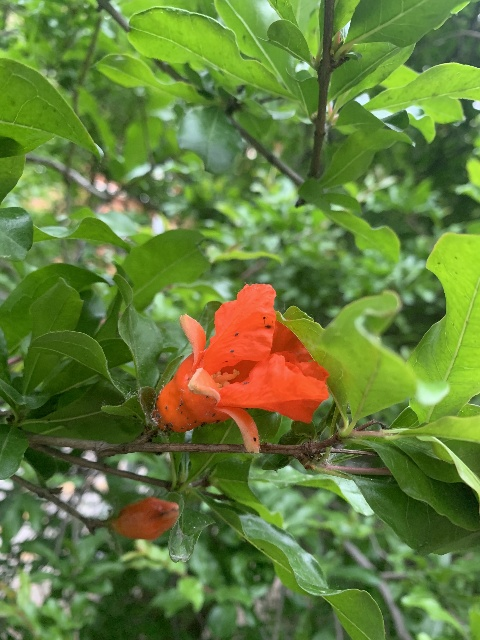bud: (110, 496, 178, 540)
flower: (156, 283, 330, 450)
